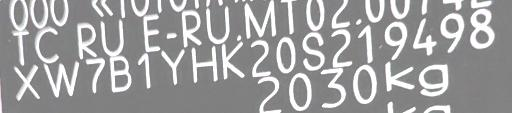letter: (41, 59, 81, 101), (468, 7, 496, 50), (439, 11, 467, 54), (411, 15, 439, 58), (10, 63, 42, 100), (189, 45, 219, 84), (328, 27, 354, 70), (300, 29, 326, 72), (220, 40, 246, 81), (383, 18, 407, 61), (160, 48, 186, 87), (108, 55, 134, 94), (274, 36, 298, 75), (248, 39, 272, 78), (84, 56, 106, 97), (354, 23, 376, 64), (136, 51, 154, 92)
